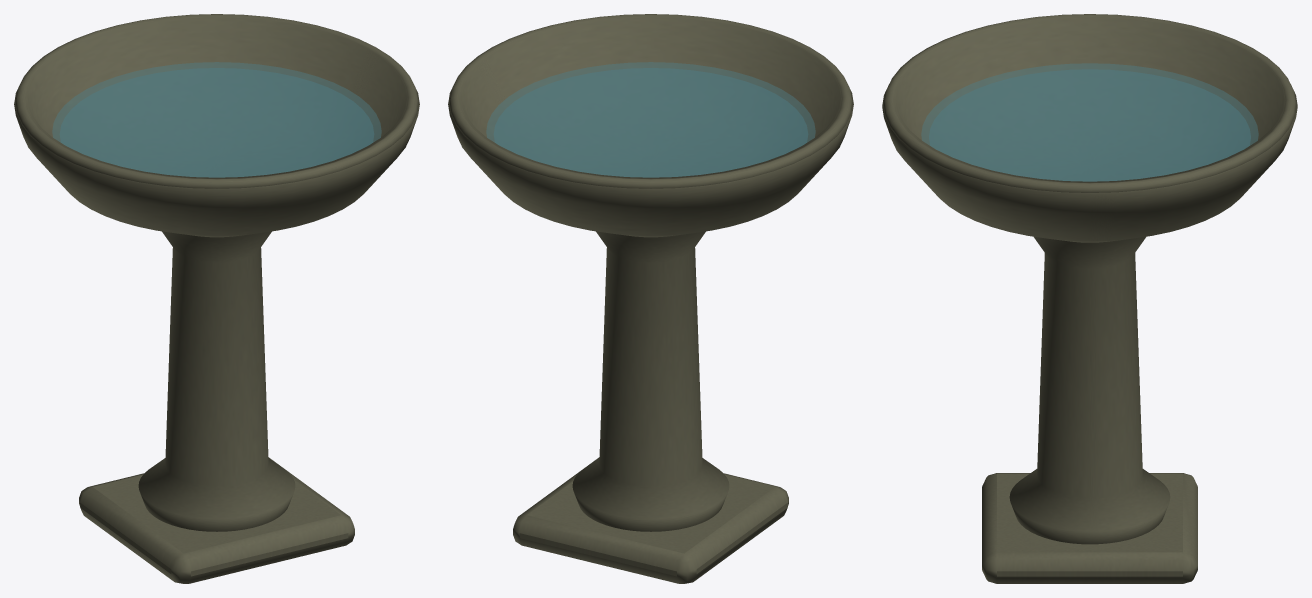
File: BirdBath.fbx
The picture shows the model from 3 angles, left to right: view 1: azimuth 30°, elevation 25°; view 2: azimuth 150°, elevation 25°; view 3: azimuth 270°, elevation 25°; orthographic projection. The views are drawn at different scales.
Parts seen in each view (by area): view 1: BirdBath__Body, BirdBath__Water; view 2: BirdBath__Body, BirdBath__Water; view 3: BirdBath__Body, BirdBath__Water.
Boxes of the visible parts, left/top/right/bottom form: BirdBath__Body: left=14, top=14, right=419, bottom=583; BirdBath__Water: left=52, top=62, right=381, bottom=177; BirdBath__Body: left=448, top=14, right=853, bottom=583; BirdBath__Water: left=486, top=62, right=815, bottom=177; BirdBath__Body: left=882, top=14, right=1297, bottom=583; BirdBath__Water: left=921, top=63, right=1258, bottom=181.
Size of the model in its own units: 61.6 by 72.8 by 61.6.
Materials: 2 (1 with a texture image).
